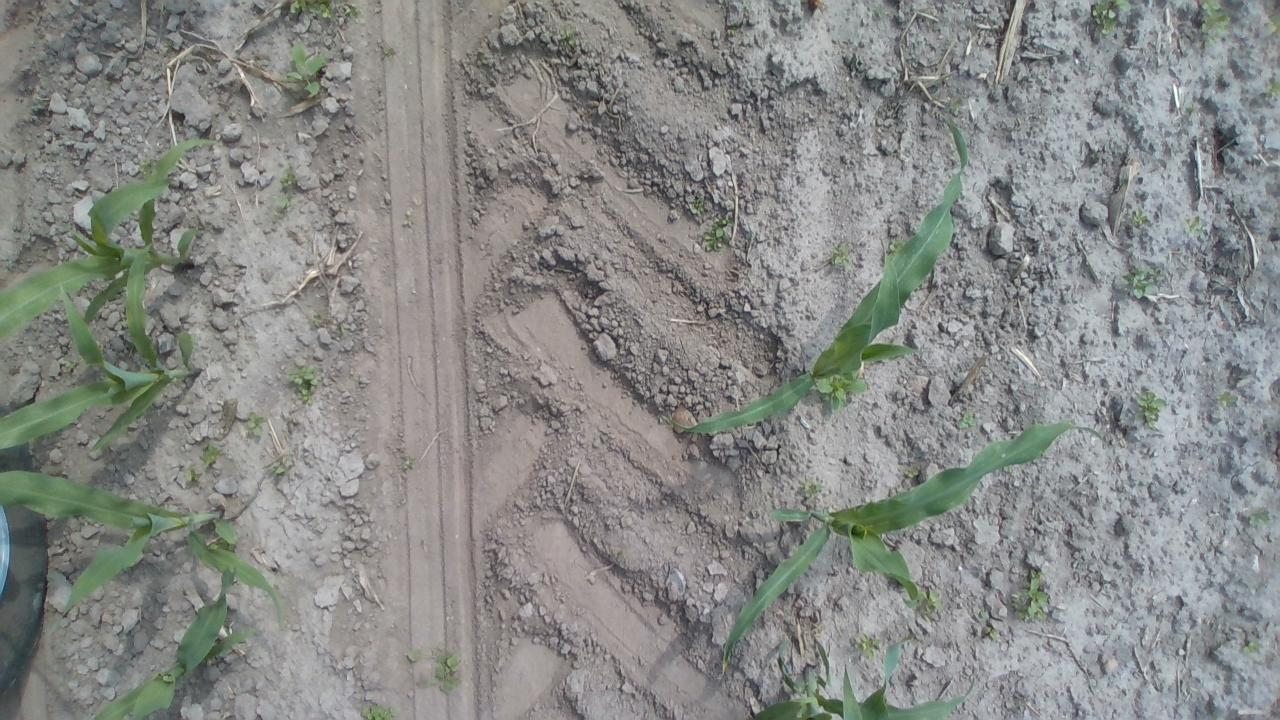Maize: (720, 422, 1107, 673), (671, 114, 972, 436), (0, 468, 287, 624), (0, 136, 219, 338), (0, 245, 204, 454), (88, 566, 256, 720), (752, 637, 977, 720)
Weeds: (408, 644, 464, 696), (286, 43, 330, 96), (814, 375, 870, 414), (1009, 568, 1051, 620), (274, 0, 362, 21), (1122, 262, 1166, 300), (1091, 0, 1132, 39), (1199, 0, 1231, 47), (1135, 386, 1167, 433), (288, 364, 322, 404), (702, 216, 738, 253), (914, 587, 944, 623), (197, 442, 225, 470), (854, 630, 880, 660), (359, 702, 401, 720), (270, 194, 299, 220), (830, 243, 854, 272), (800, 473, 824, 499), (278, 162, 298, 192), (246, 411, 269, 437), (1215, 388, 1240, 408), (1247, 510, 1273, 528), (1263, 12, 1280, 38), (270, 457, 294, 475), (559, 24, 576, 48), (957, 410, 977, 430), (1184, 214, 1202, 236), (138, 160, 158, 178), (1242, 638, 1260, 658), (1128, 206, 1148, 224), (1265, 78, 1280, 100), (54, 614, 76, 628), (185, 465, 203, 482), (402, 209, 416, 228), (984, 624, 1000, 640), (690, 198, 705, 215), (944, 96, 961, 111), (400, 455, 416, 470), (902, 465, 918, 478), (979, 606, 990, 624), (872, 4, 888, 16), (1184, 102, 1200, 114), (889, 239, 906, 250), (311, 312, 322, 327), (335, 326, 350, 336), (382, 46, 393, 59), (726, 26, 738, 36), (64, 360, 78, 368), (947, 118, 957, 129), (159, 612, 167, 621), (255, 58, 267, 64), (1038, 58, 1050, 64), (95, 416, 102, 422)
